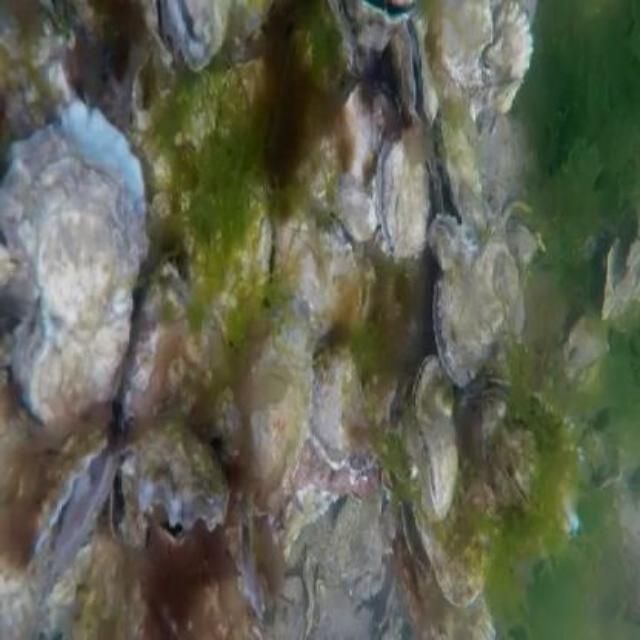Oyster-Closed: (126, 258, 210, 434), (408, 354, 472, 520), (296, 338, 369, 482), (440, 0, 530, 116), (400, 573, 500, 640)
Oyster-Open: (0, 99, 146, 437), (424, 236, 526, 392), (29, 428, 120, 586), (118, 414, 232, 536), (396, 494, 498, 610), (421, 119, 491, 243), (366, 128, 430, 262), (388, 12, 447, 124), (141, 0, 235, 70), (341, 1, 413, 64), (596, 227, 640, 326), (556, 302, 610, 381), (419, 214, 476, 280), (495, 442, 535, 506)
